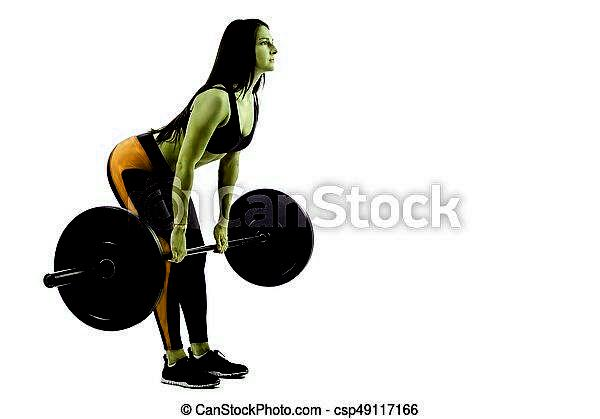Barbell: (43, 272, 60, 291)
